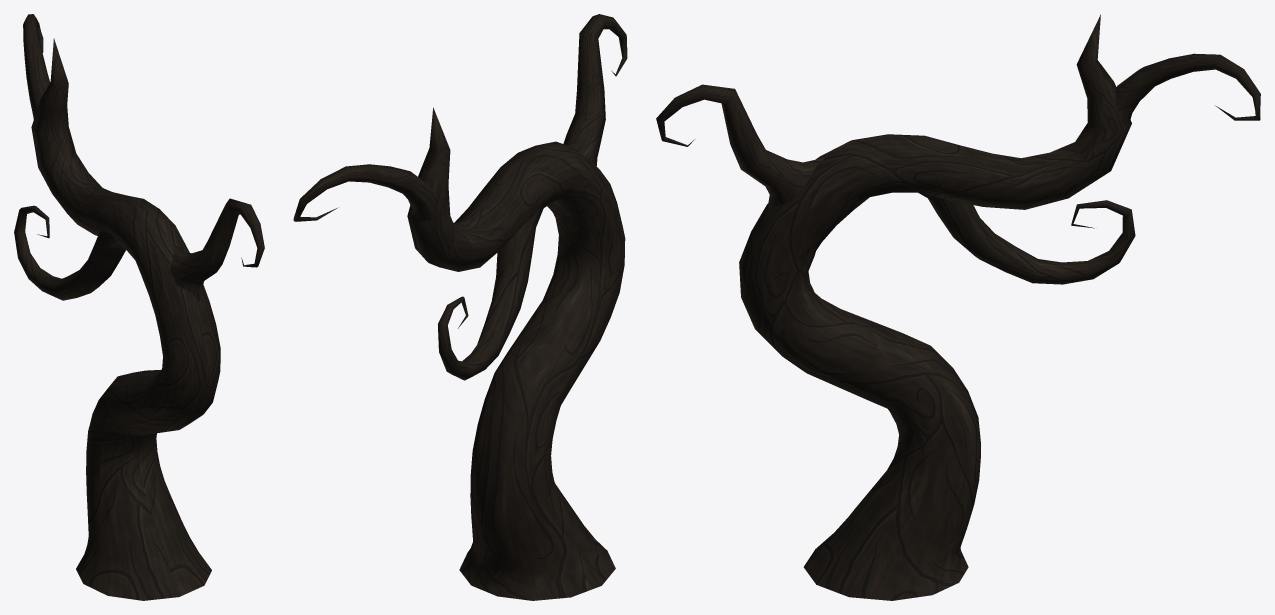
The picture shows the model from 3 angles, left to right: view 1: azimuth 30°, elevation 25°; view 2: azimuth 150°, elevation 25°; view 3: azimuth 270°, elevation 25°; orthographic projection. The views are drawn at different scales.
Visible parts, largest first — view 1: root4; view 2: root4; view 3: root4.
Part boxes in pixels (left/top/right/bottom): root4: left=14, top=14, right=264, bottom=600; root4: left=293, top=14, right=627, bottom=600; root4: left=656, top=14, right=1260, bottom=600.
Bounding box in the file's own units: 330 × 1257 × 1246.
